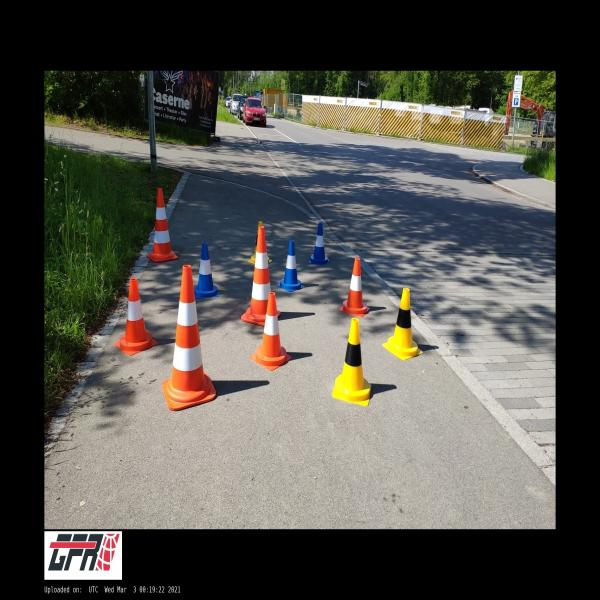blue_cone: (276, 239, 305, 291), (194, 242, 219, 298), (308, 222, 329, 266)
large_orange_cone: (162, 265, 216, 410), (241, 226, 281, 326), (147, 188, 178, 262)
orange_cone: (115, 278, 158, 356), (250, 292, 291, 371), (339, 258, 370, 317)
yellow_cone: (332, 318, 371, 407), (382, 288, 423, 360), (248, 221, 272, 265)
